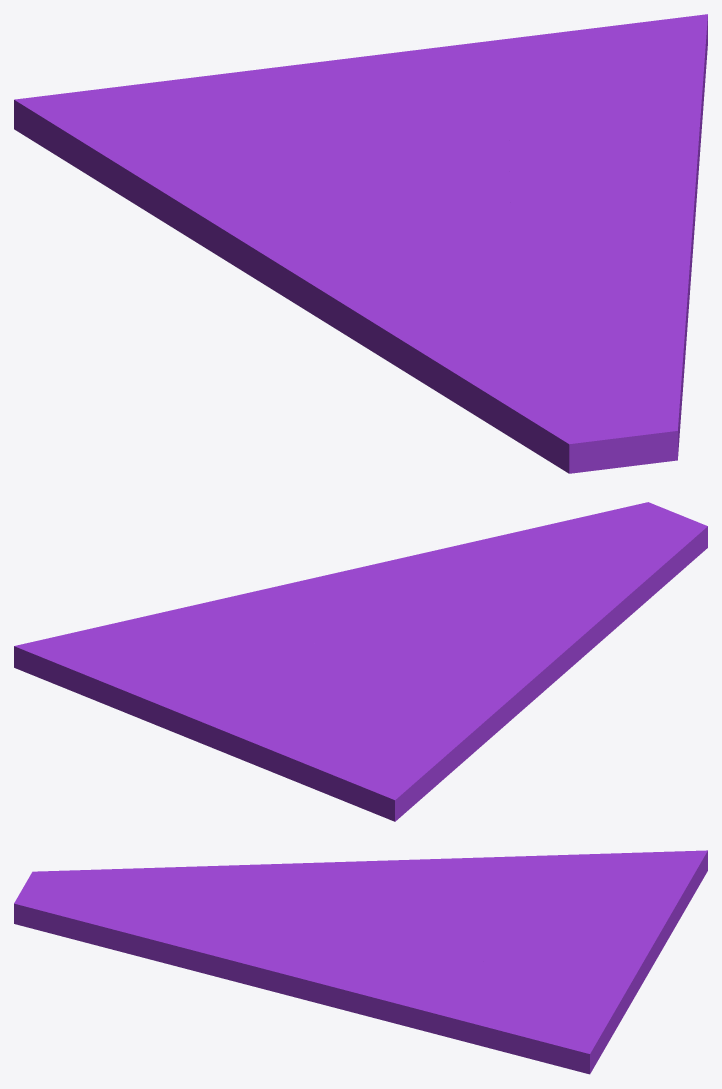
The model's file is StairsStep_28_chunks.fbx.
3 views of the same model, one above another, from view 1: azimuth 30°, elevation 25°; view 2: azimuth 150°, elevation 25°; view 3: azimuth 270°, elevation 25° (orthographic). The views are drawn at different scales.
Visible parts, largest first — view 1: StairsStep_28_3, StairsStep_28_2, StairsStep_28_1, StairsStep_28_0; view 2: StairsStep_28_3, StairsStep_28_1, StairsStep_28_2, StairsStep_28_0; view 3: StairsStep_28_3, StairsStep_28_1, StairsStep_28_2, StairsStep_28_0.
Boxes of the visible parts, x1,y1,x2,y2 form: StairsStep_28_3: (14, 39, 511, 254); StairsStep_28_2: (393, 243, 690, 473); StairsStep_28_1: (507, 14, 707, 289); StairsStep_28_0: (144, 210, 470, 374); StairsStep_28_3: (124, 615, 495, 821); StairsStep_28_1: (14, 563, 428, 720); StairsStep_28_2: (380, 502, 707, 625); StairsStep_28_0: (460, 613, 618, 756); StairsStep_28_3: (333, 850, 707, 1003); StairsStep_28_1: (245, 926, 630, 1074); StairsStep_28_2: (14, 865, 334, 984); StairsStep_28_0: (247, 857, 490, 911).
Bounding box in the file's own units: 385 × 17.94 × 555.
